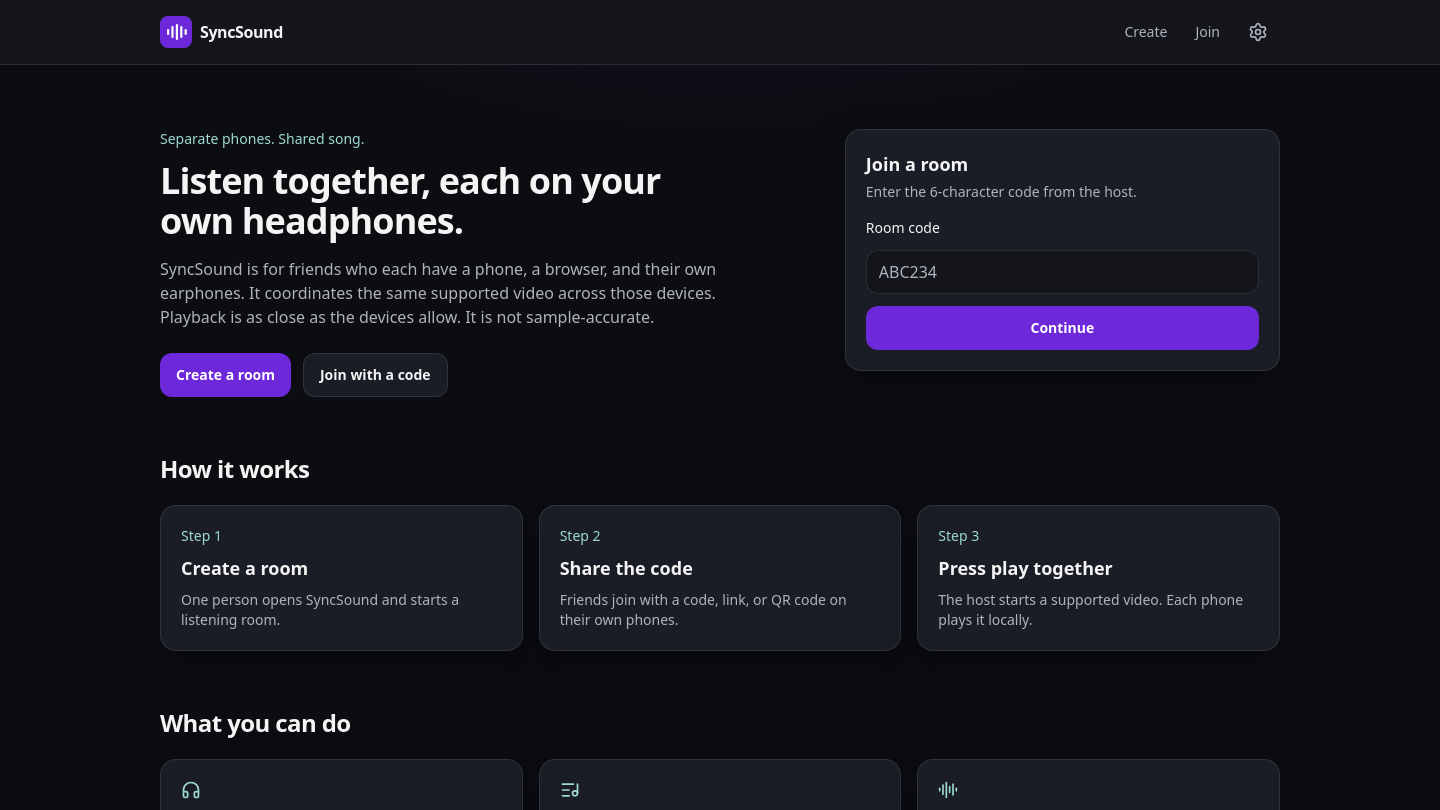
landing page › opens the join page with a normalized code
Type "abc234" into the field labelled "Room code". click: (1062, 272)
box: [866,250,1259,294]
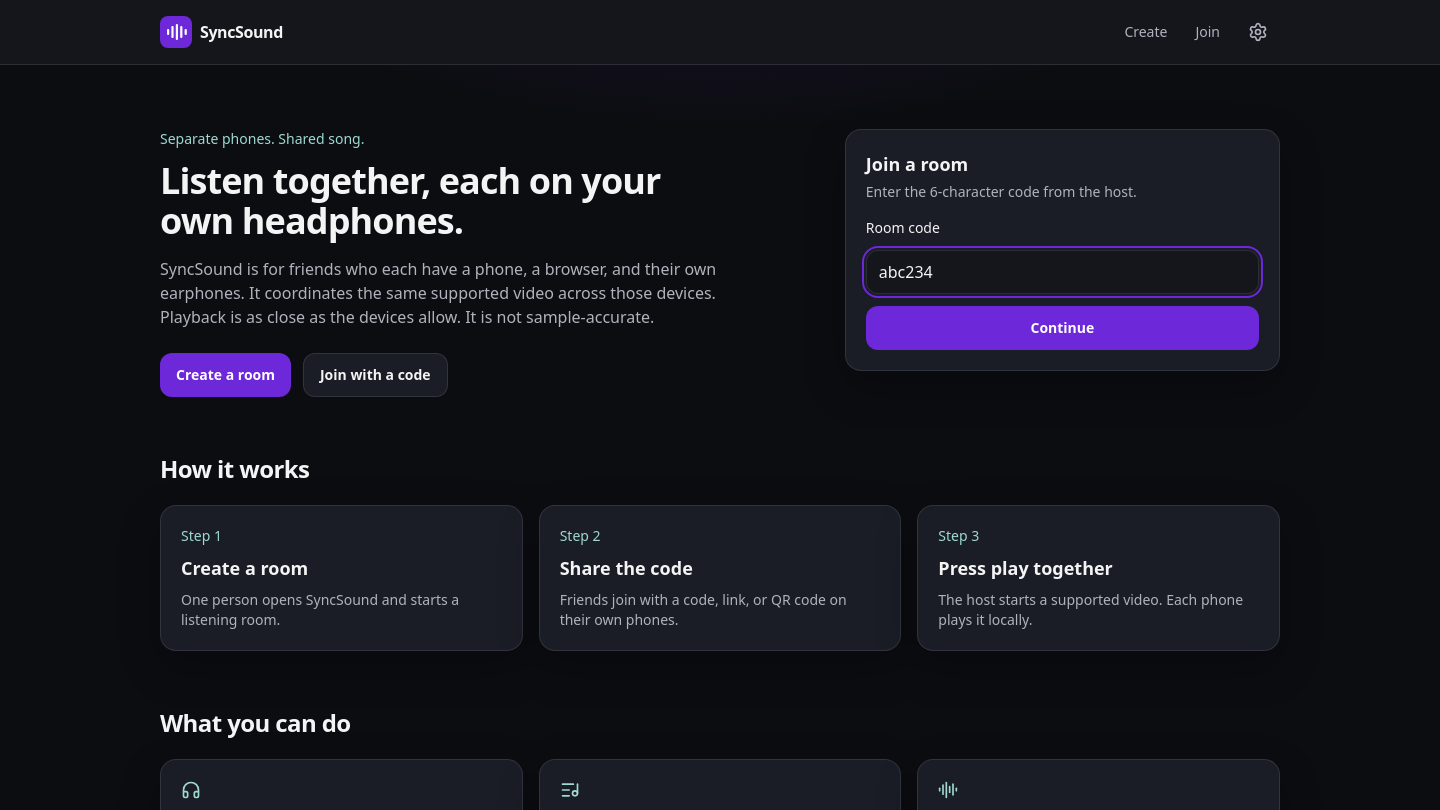
Click the button "Continue". click: (1062, 328)
box: [866,306,1259,350]
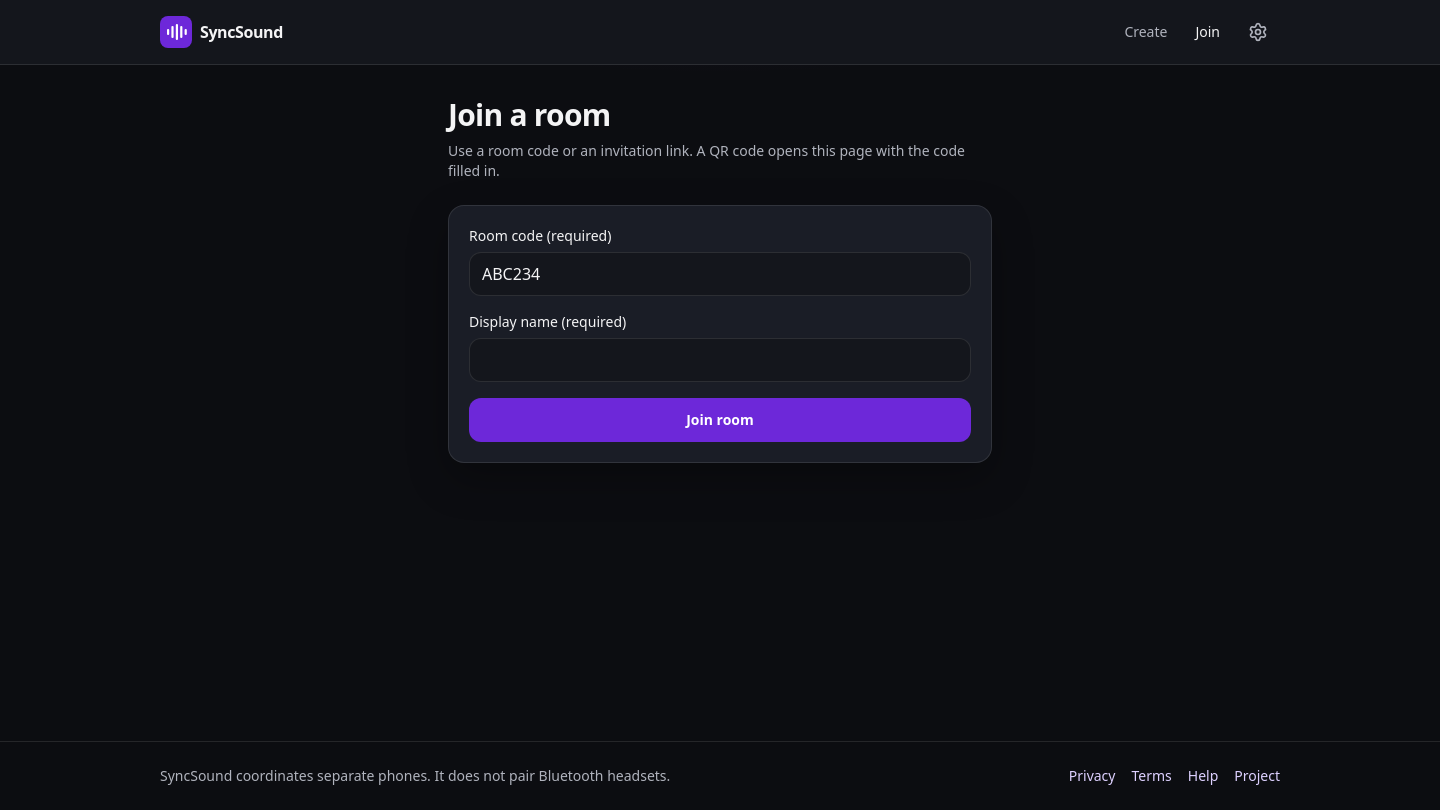
Check: the heading "Join a room" is shown, box [448,94,610,135]
Check: the field labelled "Room code (required)" holds "ABC234", box [469,252,971,296]
